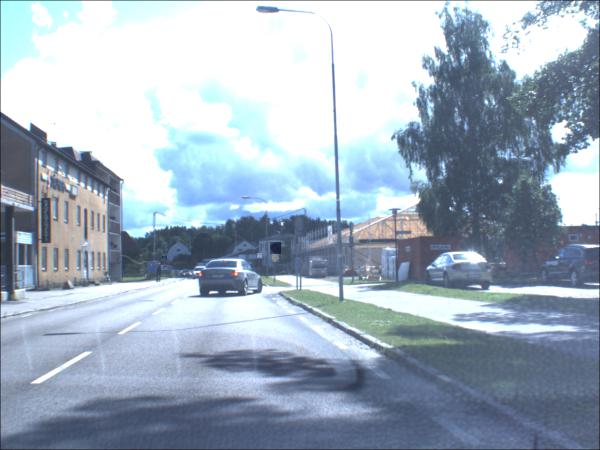NO_STOPPING_NO_STANDING: (272, 243, 284, 256)
PEDESTRIAN_CROSSING: (258, 255, 264, 261), (163, 258, 169, 264)
PRIORITY_ROAD: (273, 255, 281, 264)
